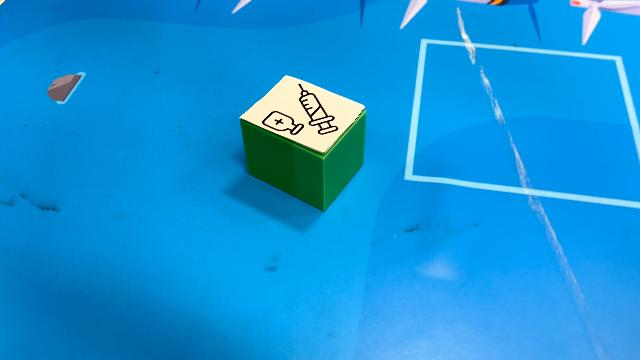syringe: (240, 77, 366, 212)
